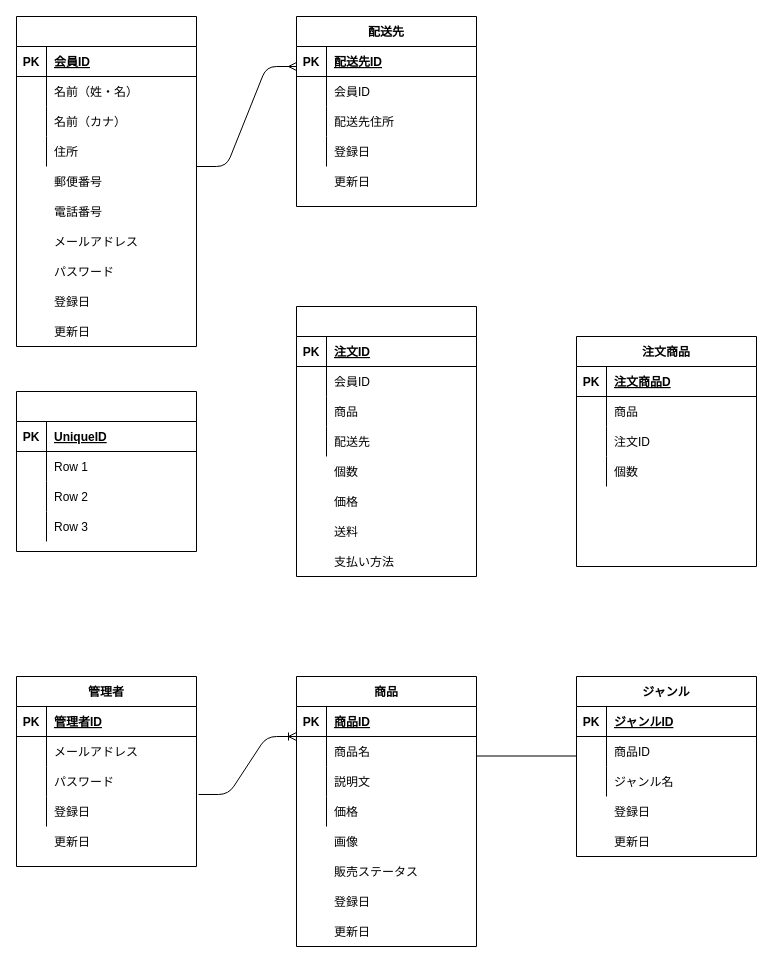
Image size: 773x963. Some labels were removed from this diagram. Each missing label, with the box of its shape:
カート: (16, 390, 196, 552)
会員: (16, 16, 196, 346)
注文: (296, 306, 476, 576)
